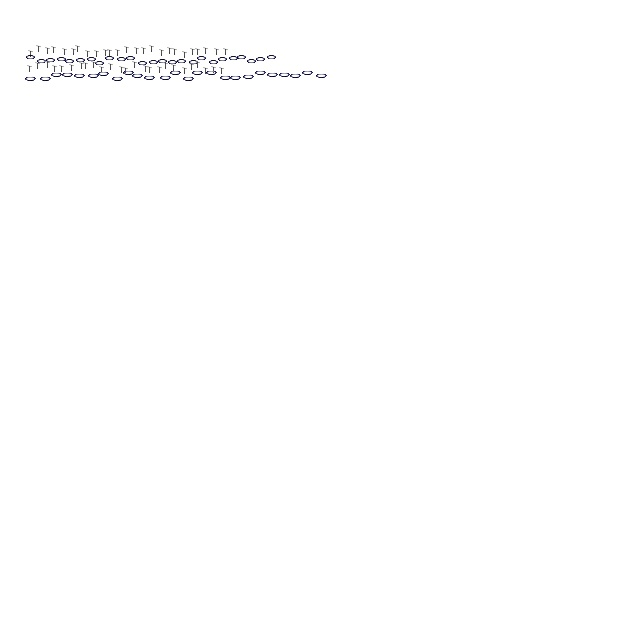chain: (24, 74, 38, 84), (50, 70, 64, 80), (122, 68, 136, 78), (182, 74, 196, 84), (242, 72, 256, 82), (254, 68, 268, 78), (266, 70, 280, 80), (278, 70, 292, 80), (40, 74, 52, 84), (62, 70, 74, 80), (112, 74, 124, 84), (170, 68, 182, 78), (192, 68, 204, 78), (206, 68, 218, 78), (302, 68, 314, 78), (36, 57, 48, 65), (56, 55, 68, 63), (64, 57, 76, 65), (86, 55, 98, 63), (94, 59, 106, 67), (104, 54, 116, 62), (116, 55, 128, 63), (148, 58, 160, 66), (176, 57, 188, 65), (188, 58, 200, 66), (196, 54, 208, 62), (208, 58, 220, 66), (228, 54, 240, 62), (236, 53, 248, 61), (246, 57, 258, 65), (266, 53, 278, 61), (74, 72, 86, 80), (88, 72, 100, 80), (98, 70, 110, 78), (132, 72, 144, 80), (144, 74, 156, 82), (160, 74, 172, 82), (220, 74, 232, 82), (230, 74, 242, 82), (290, 72, 302, 80), (316, 72, 328, 80), (26, 53, 36, 61), (46, 56, 56, 64), (76, 56, 86, 64), (126, 54, 136, 62), (138, 59, 148, 67), (158, 57, 168, 65), (168, 58, 178, 66), (218, 55, 228, 63), (256, 55, 266, 63)
enseble_chain: (28, 50, 34, 58), (62, 48, 68, 56), (94, 50, 100, 58), (124, 46, 130, 54), (172, 48, 178, 56), (190, 48, 196, 56), (214, 48, 220, 56), (36, 46, 42, 52), (134, 48, 140, 54), (182, 52, 188, 58), (52, 66, 58, 72), (108, 64, 114, 70), (132, 62, 138, 68), (182, 68, 188, 74), (52, 46, 56, 54), (72, 48, 76, 56), (86, 50, 90, 58), (196, 48, 200, 56), (224, 48, 228, 56), (36, 62, 40, 70), (70, 64, 74, 72), (80, 62, 84, 70), (84, 62, 88, 70), (100, 66, 104, 74), (120, 66, 124, 74), (148, 66, 152, 74), (158, 66, 162, 74), (164, 62, 168, 70), (172, 64, 176, 72), (212, 66, 216, 74), (46, 48, 50, 54), (76, 46, 80, 52), (104, 50, 108, 56), (108, 50, 112, 56), (116, 50, 120, 56), (142, 48, 146, 54), (150, 46, 154, 52), (160, 50, 164, 56), (168, 48, 172, 54), (204, 48, 208, 54), (28, 66, 32, 72), (46, 62, 50, 68), (60, 66, 64, 72), (92, 62, 96, 68), (124, 68, 128, 74), (144, 66, 148, 72), (190, 64, 194, 70), (196, 62, 200, 68), (204, 68, 208, 74), (220, 68, 224, 74)
